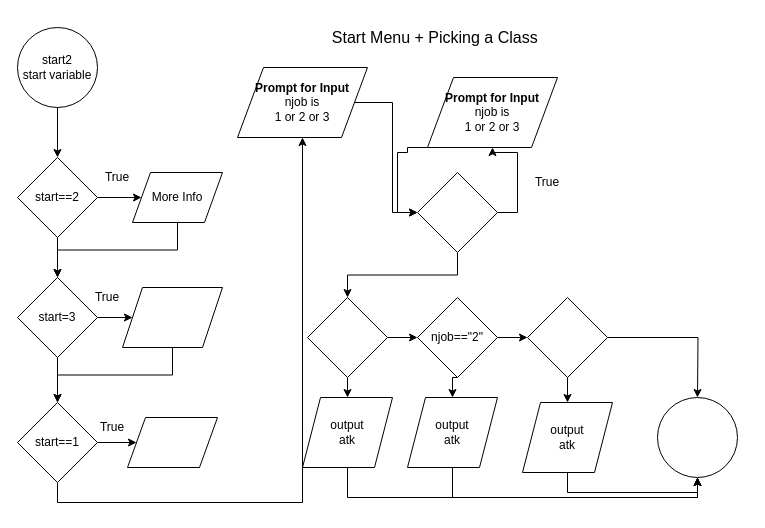
Image size: 765x528. Some labels were removed from this diagram. The centre of each missing label's shape, as x and y in pixels:
njob<"1" or njob>"3": pixel 457 212
njob=="1": pixel 347 337
njob=="3": pixel 567 337
return void;: pixel 697 437
Shows past score in txt file: pixel 172 317
Starts Game: pixel 172 442
